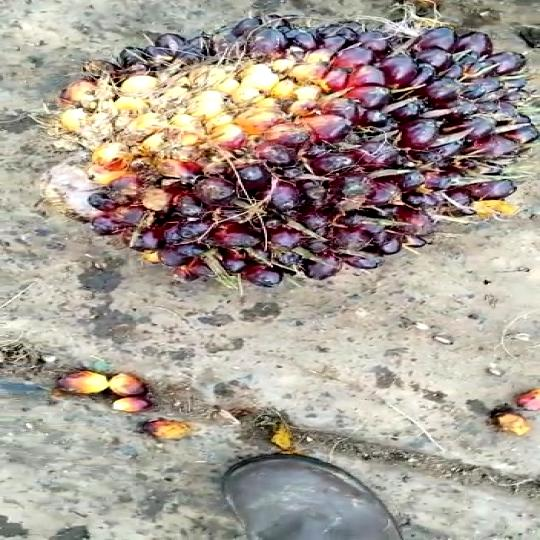mentah: (28, 5, 540, 281)
